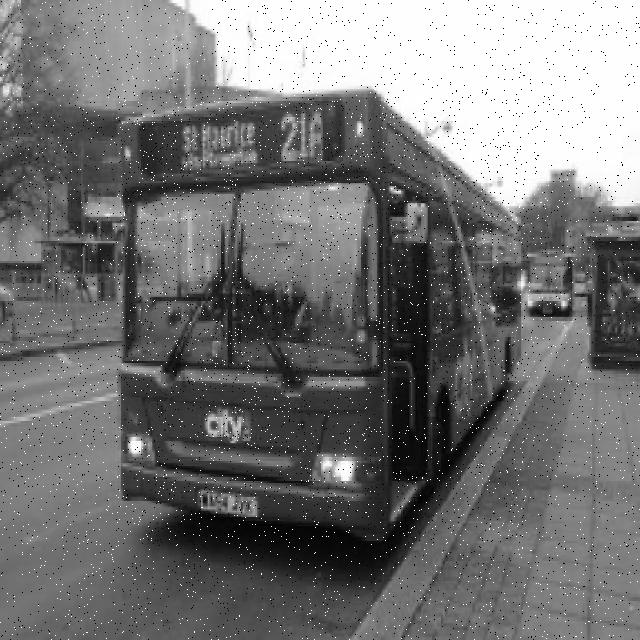Bus: (118, 90, 525, 544)
